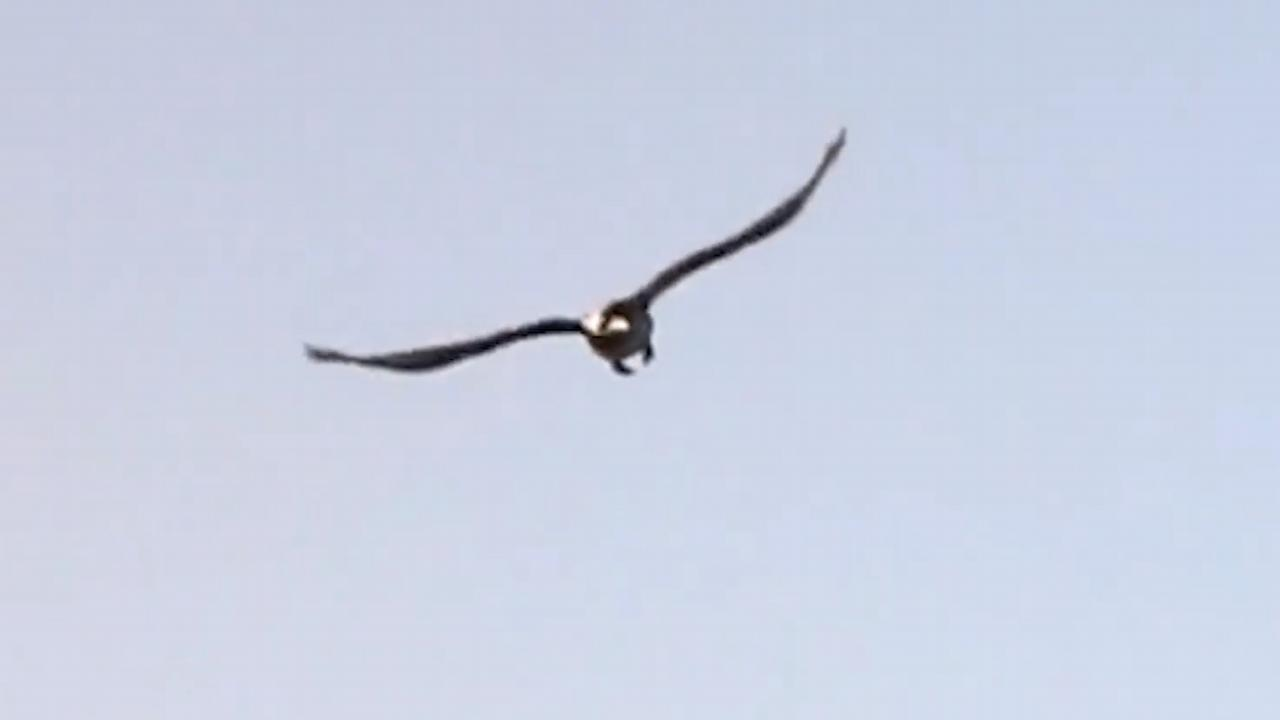Bird: (296, 118, 858, 400)
